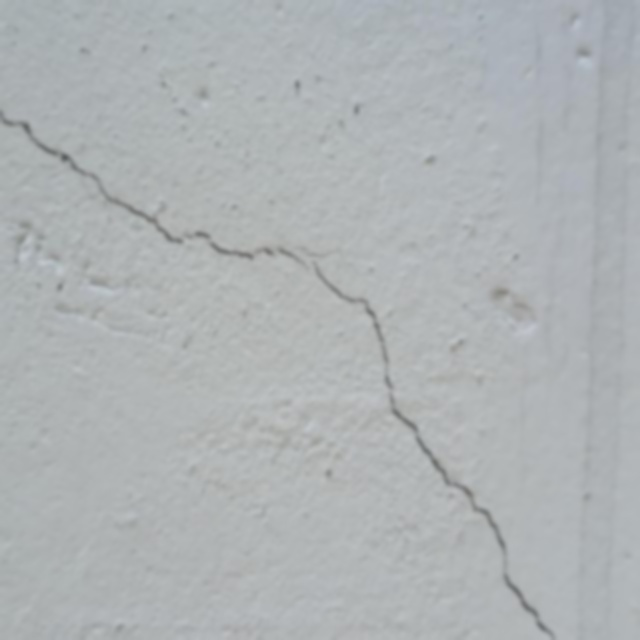SurfaceCrack: (0, 1, 600, 640)
